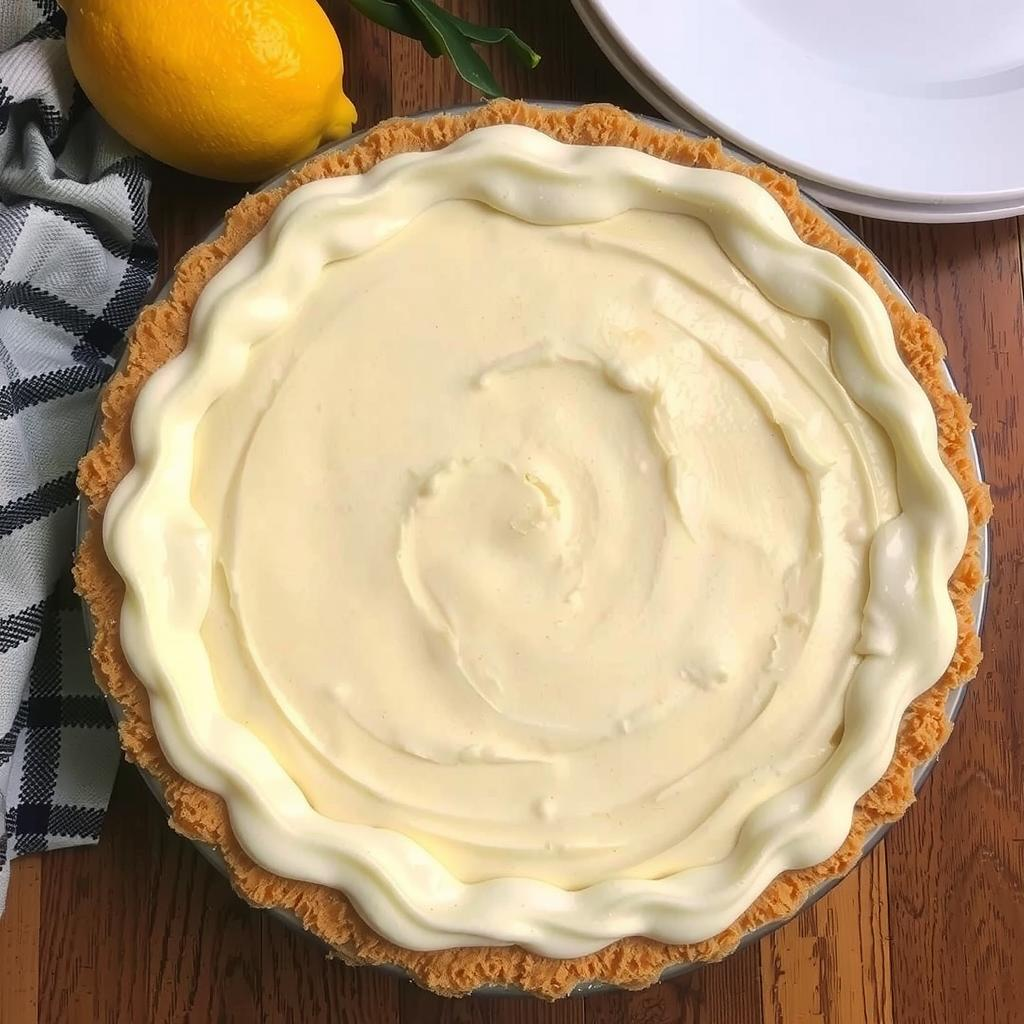pie: (69, 94, 1004, 1003)
